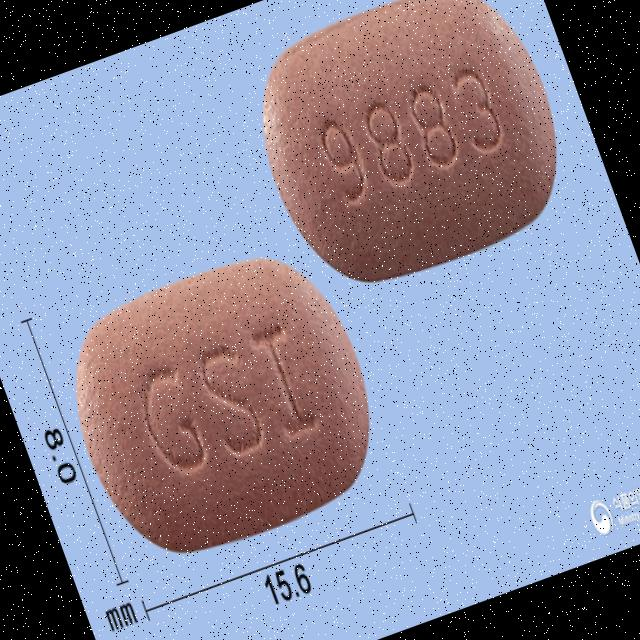Biktarvy: (40, 228, 408, 584), (226, 0, 594, 314)
